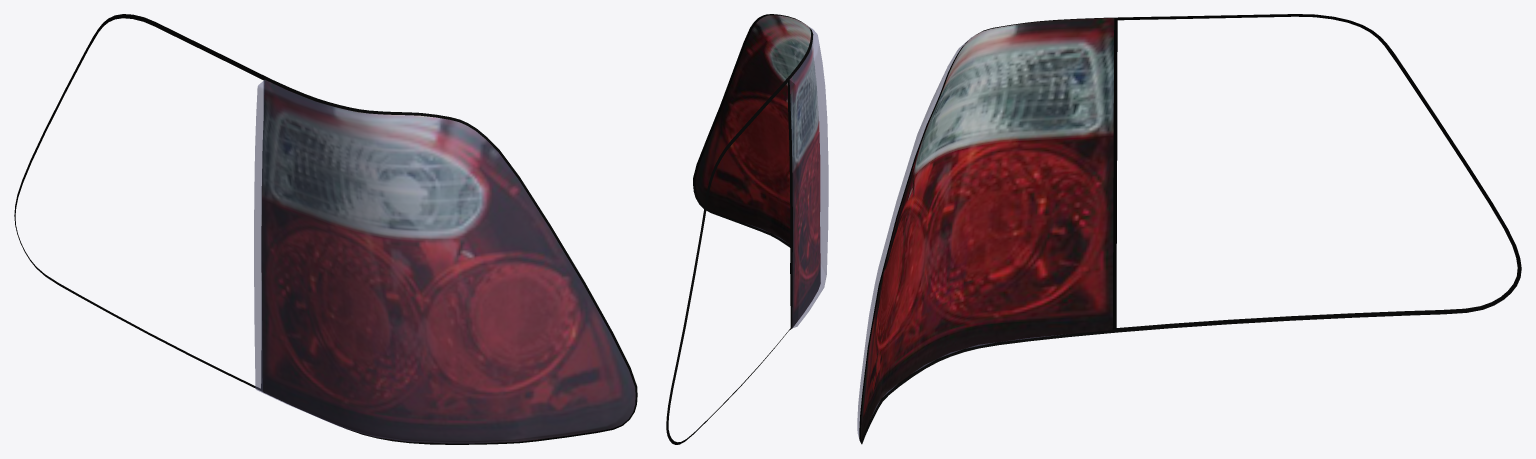
3 renders of one model, left to right at view 1: azimuth 30°, elevation 25°; view 2: azimuth 150°, elevation 25°; view 3: azimuth 270°, elevation 25°, orthographic. The views are drawn at different scales.
Parts seen in each view (by area): view 1: H124_541C_R_1_DTaSI_H124_541C_R, H124_541C_R_H124_541C_R_2_N, H124_541C_R_H124_541C_R_3_D; view 2: H124_541C_R_H124_541C_R_2_N, H124_541C_R_1_DTaSI_H124_541C_R, H124_541C_R_H124_541C_R_3_D; view 3: H124_541C_R_H124_541C_R_2_N, H124_541C_R_H124_541C_R_3_D, H124_541C_R_1_DTaSI_H124_541C_R.
Part boxes in pixels (x1,y1,x2,y2): H124_541C_R_1_DTaSI_H124_541C_R: (254,80,635,443); H124_541C_R_H124_541C_R_2_N: (261,80,635,443); H124_541C_R_H124_541C_R_3_D: (14,14,637,444); H124_541C_R_H124_541C_R_2_N: (695,15,820,327); H124_541C_R_1_DTaSI_H124_541C_R: (753,27,828,327); H124_541C_R_H124_541C_R_3_D: (666,14,813,444); H124_541C_R_H124_541C_R_2_N: (861,18,1114,439); H124_541C_R_H124_541C_R_3_D: (859,14,1521,444); H124_541C_R_1_DTaSI_H124_541C_R: (857,36,1048,438).
Size of the model in its own units: 26.69 by 27.79 by 51.64.
